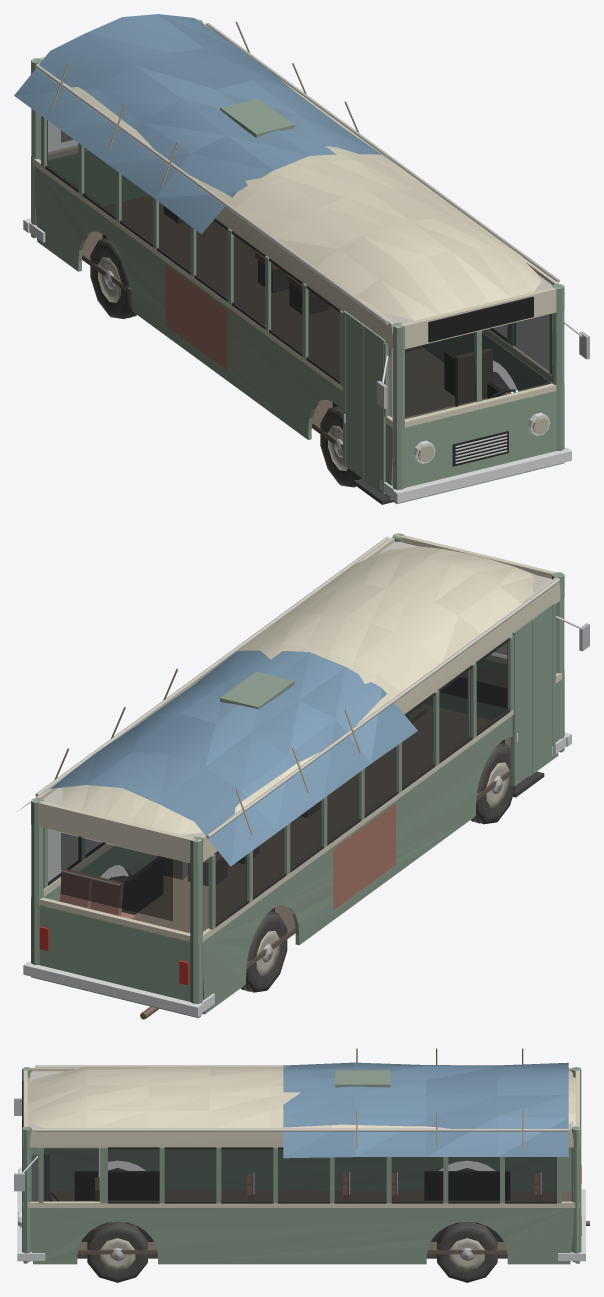
Rendered from festival_bus_garage_lod1.glb.
The picture shows the model from 3 angles, top to bottom: view 1: azimuth 30°, elevation 25°; view 2: azimuth 150°, elevation 25°; view 3: azimuth 270°, elevation 25°; orthographic projection. The views are drawn at different scales.
Parts seen in each view (by area): view 1: body, door, wheel_rr, destination_board, wheel_fr; view 2: body, door, wheel_rr, wheel_fr; view 3: body, wheel_fl, wheel_rl.
Boxes of the visible parts, <box> form: body: <box>14,14,589,504</box>; door: <box>343,310,385,494</box>; wheel_rr: <box>90,237,136,318</box>; destination_board: <box>428,296,533,342</box>; wheel_fr: <box>320,406,361,487</box>; body: <box>18,533,589,1019</box>; door: <box>510,603,555,786</box>; wheel_rr: <box>240,911,287,992</box>; wheel_fr: <box>471,743,515,824</box>; body: <box>14,1048,589,1264</box>; wheel_fl: <box>87,1221,147,1282</box>; wheel_rl: <box>437,1221,497,1282</box>.
Size of what is drawn, in the model's own units: 3.1 by 3.18 by 9.39.
